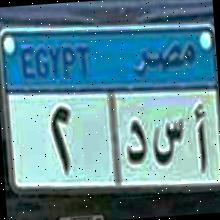2: (46, 101, 80, 180)
alif: (191, 98, 212, 175)
daal: (122, 112, 150, 168)
seen: (150, 115, 186, 174)
